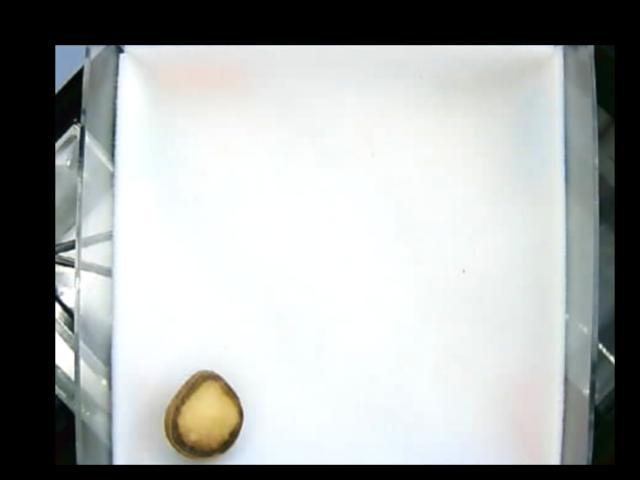Potato: (164, 368, 244, 458)
